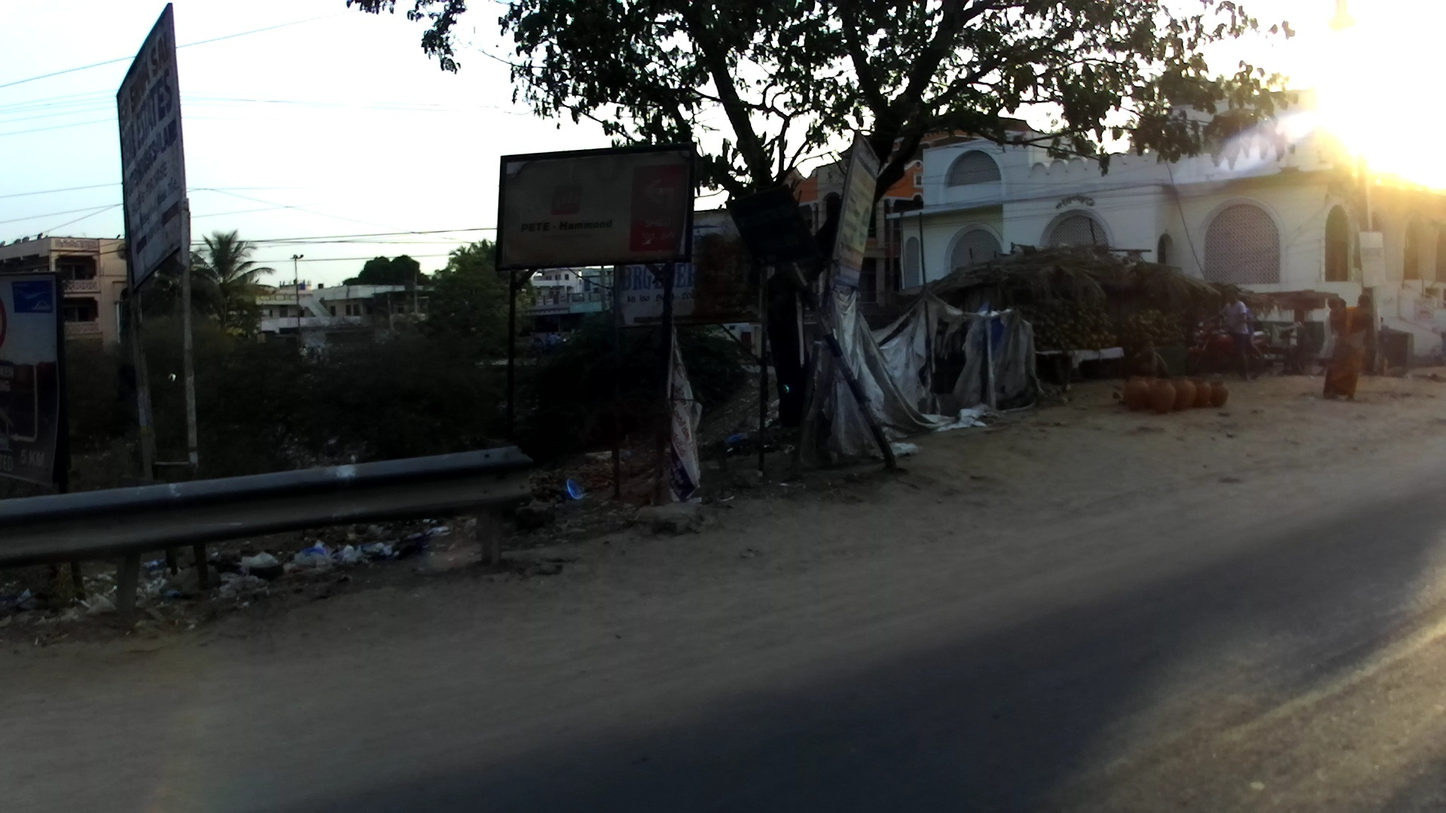motorcycle: (1186, 321, 1273, 382)
person: (1320, 283, 1374, 398), (1316, 296, 1346, 385)
rider: (1212, 287, 1256, 379)
